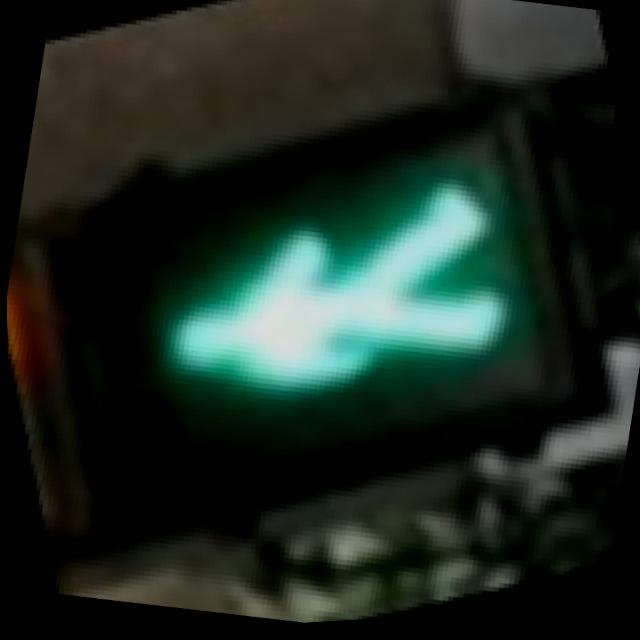green_light: (28, 37, 616, 592)
